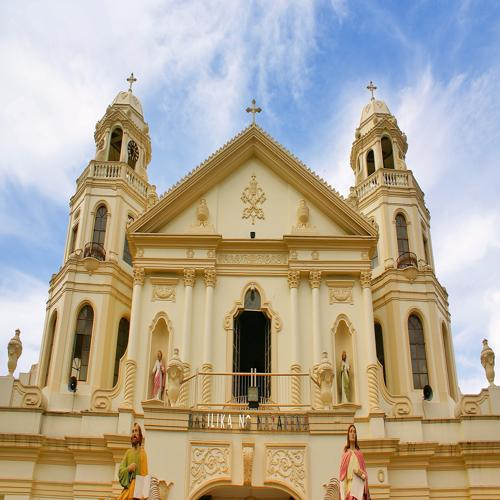Quiapo Church: (33, 62, 468, 492)
